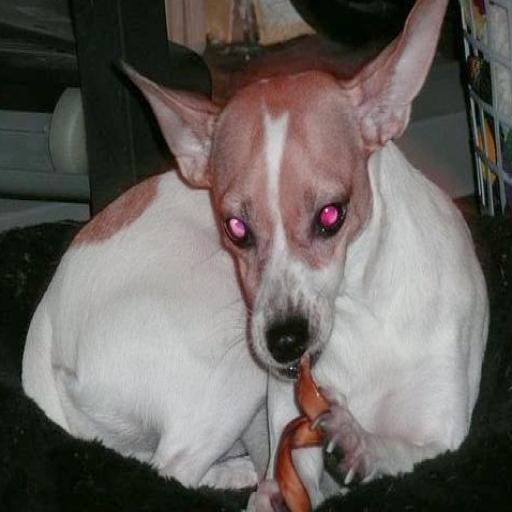dog_face: (130, 1, 449, 371)
